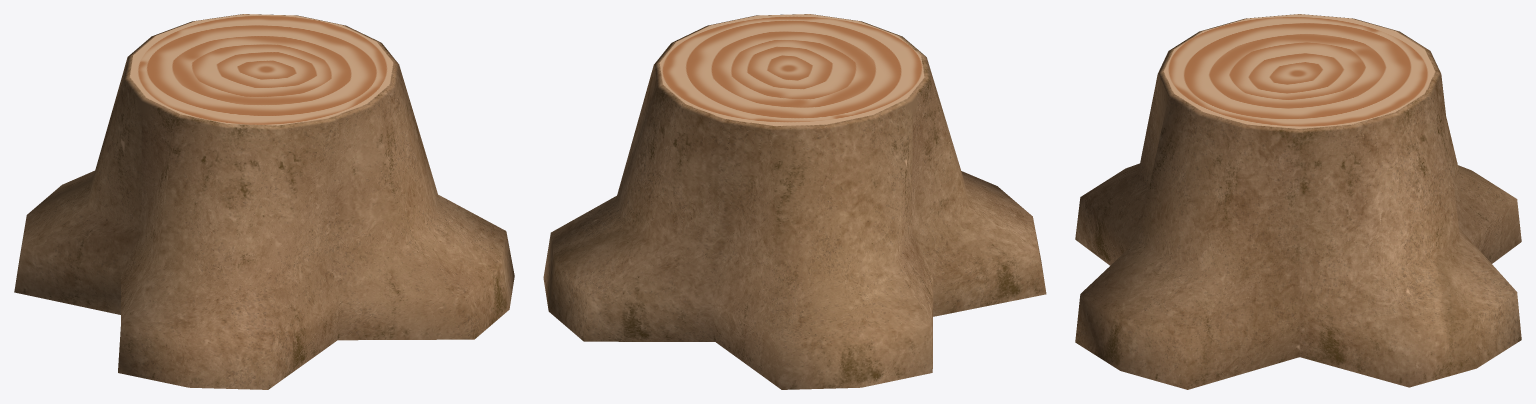
Rendered from SM_Tree_03.fbx.
3 renders of one model, left to right at view 1: azimuth 30°, elevation 25°; view 2: azimuth 150°, elevation 25°; view 3: azimuth 270°, elevation 25°, orthographic. The views are drawn at different scales.
Parts seen in each view (by area): view 1: SM_Tree_03; view 2: SM_Tree_03; view 3: SM_Tree_03.
Part boxes in pixels (x1,y1,x2,y2): SM_Tree_03: (14, 14, 514, 389); SM_Tree_03: (543, 14, 1046, 389); SM_Tree_03: (1075, 14, 1521, 389).
Size of the model in its own units: 17.76 by 9.18 by 16.93.
